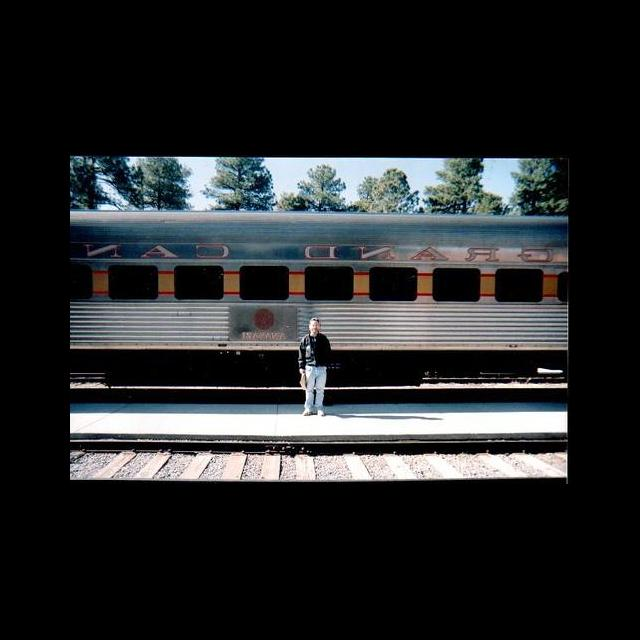NO-Hardhat: (308, 317, 319, 323)
NO-Mask: (311, 329, 319, 333)
NO-Safety Vest: (303, 335, 328, 367)
Person: (300, 317, 331, 415)
